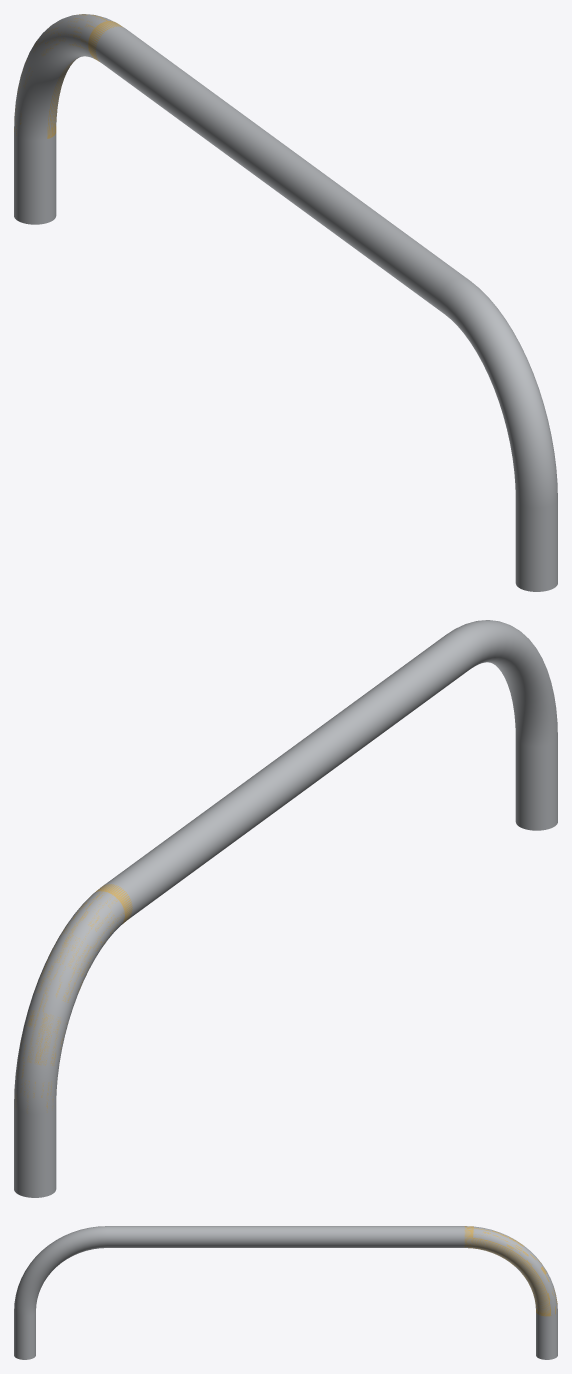
File: step_42.glb
3 renders of one model, top to bottom at view 1: azimuth 30°, elevation 25°; view 2: azimuth 150°, elevation 25°; view 3: azimuth 270°, elevation 25°, orthographic. The views are drawn at different scales.
Visible parts, largest first — view 1: part__cross tube front, added__cross tube front; view 2: part__cross tube front, added__cross tube front; view 3: part__cross tube front, added__cross tube front.
Boxes of the visible parts, <box> form: part__cross tube front: <box>14,14,557,591</box>; added__cross tube front: <box>14,14,123,138</box>; part__cross tube front: <box>14,620,557,1197</box>; added__cross tube front: <box>15,884,132,1113</box>; part__cross tube front: <box>14,1226,557,1359</box>; added__cross tube front: <box>464,1226,557,1316</box>.
Size of the model in its own units: 80 by 515 by 1980.
